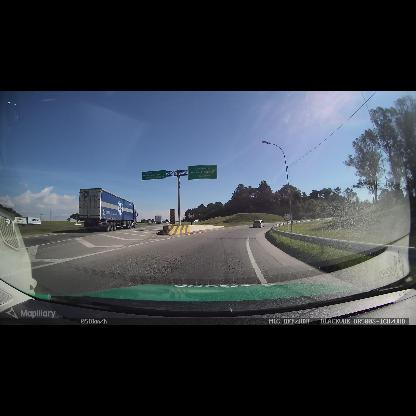O-MP: (170, 209, 175, 224)
R-19: (283, 213, 291, 221), (188, 211, 195, 219)
